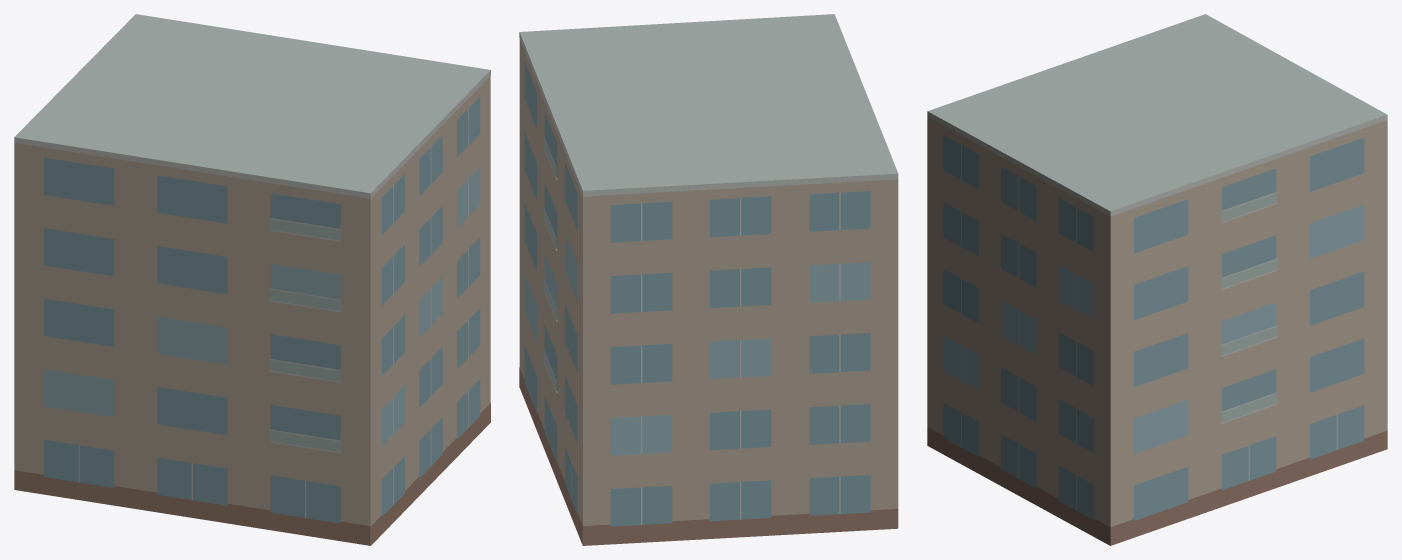
File: survey-upis-32740698.glb
3 views of the same model, side by side, from view 1: azimuth 30°, elevation 25°; view 2: azimuth 150°, elevation 25°; view 3: azimuth 270°, elevation 25° (orthographic). The views are drawn at different scales.
Parts seen in each view (by area): view 1: survey-upis-32740698.tmp; view 2: survey-upis-32740698.tmp; view 3: survey-upis-32740698.tmp.
Part boxes in pixels (x1,y1,x2,y2): survey-upis-32740698.tmp: (14,14,490,545); survey-upis-32740698.tmp: (519,14,898,545); survey-upis-32740698.tmp: (927,14,1387,545).
Size of the model in its own units: 19.25 by 15.2 by 18.96.
